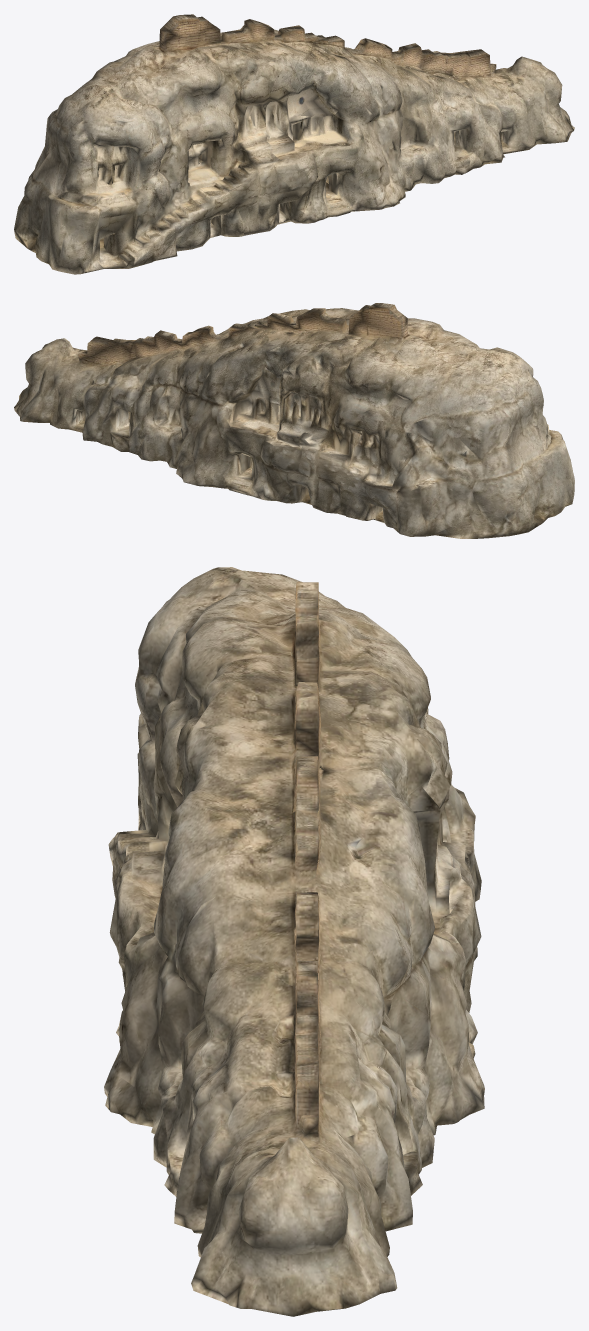
Rendered from city_van_citadel_ridge.glb.
3 views of the same model, one above another, from view 1: azimuth 30°, elevation 25°; view 2: azimuth 150°, elevation 25°; view 3: azimuth 270°, elevation 25° (orthographic). The views are drawn at different scales.
Visible parts, largest first — view 1: Mesh1.0; view 2: Mesh1.0; view 3: Mesh1.0.
Boxes of the visible parts, x1=… form: Mesh1.0: x1=14, y1=14, x2=574, y2=274; Mesh1.0: x1=14, y1=303, x2=574, y2=538; Mesh1.0: x1=104, y1=567, x2=484, y2=1316.
Size of the model in its own units: 26.92 by 9 by 8.44.
1 material, 1 textured.
